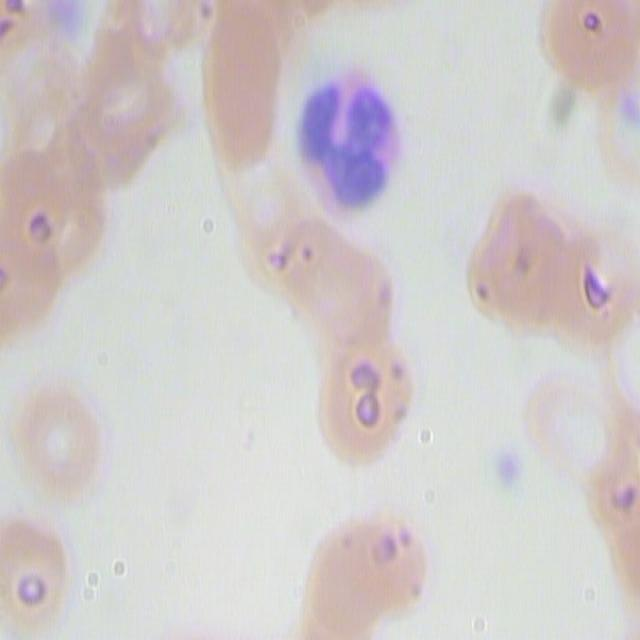RBC: (60, 4, 174, 175), (230, 188, 338, 352), (1, 92, 87, 290), (474, 185, 583, 341), (520, 360, 636, 491), (308, 324, 412, 467), (194, 1, 283, 165), (316, 525, 434, 640), (15, 376, 110, 505), (0, 514, 72, 638), (542, 0, 636, 93), (31, 0, 109, 70)
WBC: (291, 57, 414, 248)
platelets: (492, 440, 531, 497), (615, 86, 640, 134)
